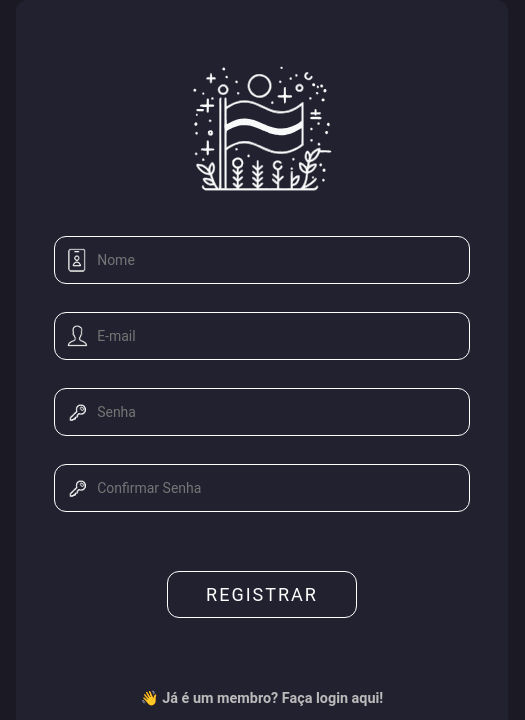
Register Form Validation › should display error messages if required fields are empty
Double-click the submit button at point(262, 595), box [167,571,357,618]
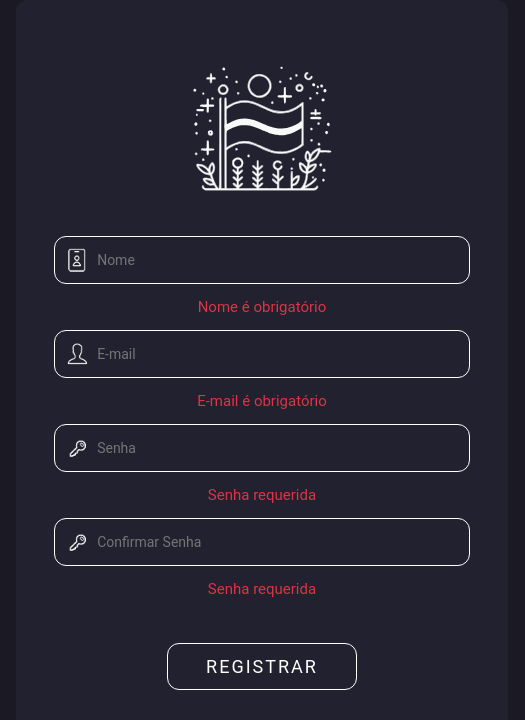
Check: the text "Nome é obrigatório" is shown, box [198,298,326,316]
Check: the text "E-mail é obrigatório" is shown, box [197,392,327,410]
Check: the 1st text "Senha requerida" is shown, box [208,486,316,504]
